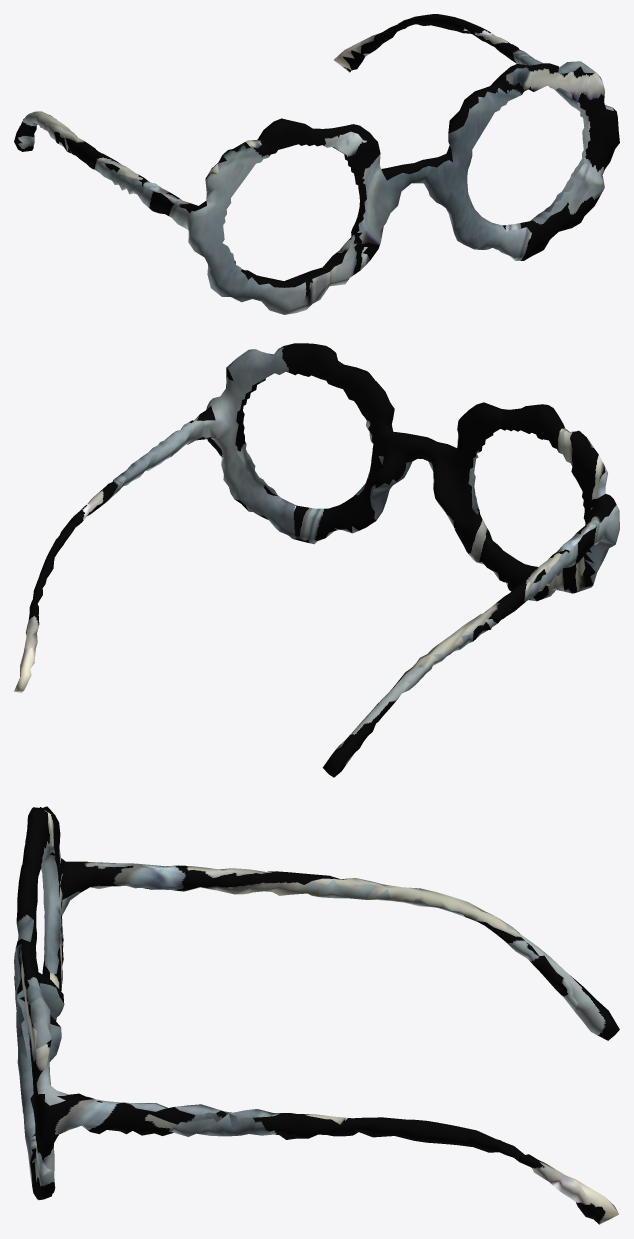
The model's file is scan_align.obj.
3 views of the same model, one above another, from view 1: azimuth 30°, elevation 25°; view 2: azimuth 150°, elevation 25°; view 3: azimuth 270°, elevation 25° (orthographic). The views are drawn at different scales.
Bounding box in the file's own units: 0.126 × 0.0569 × 0.128.
